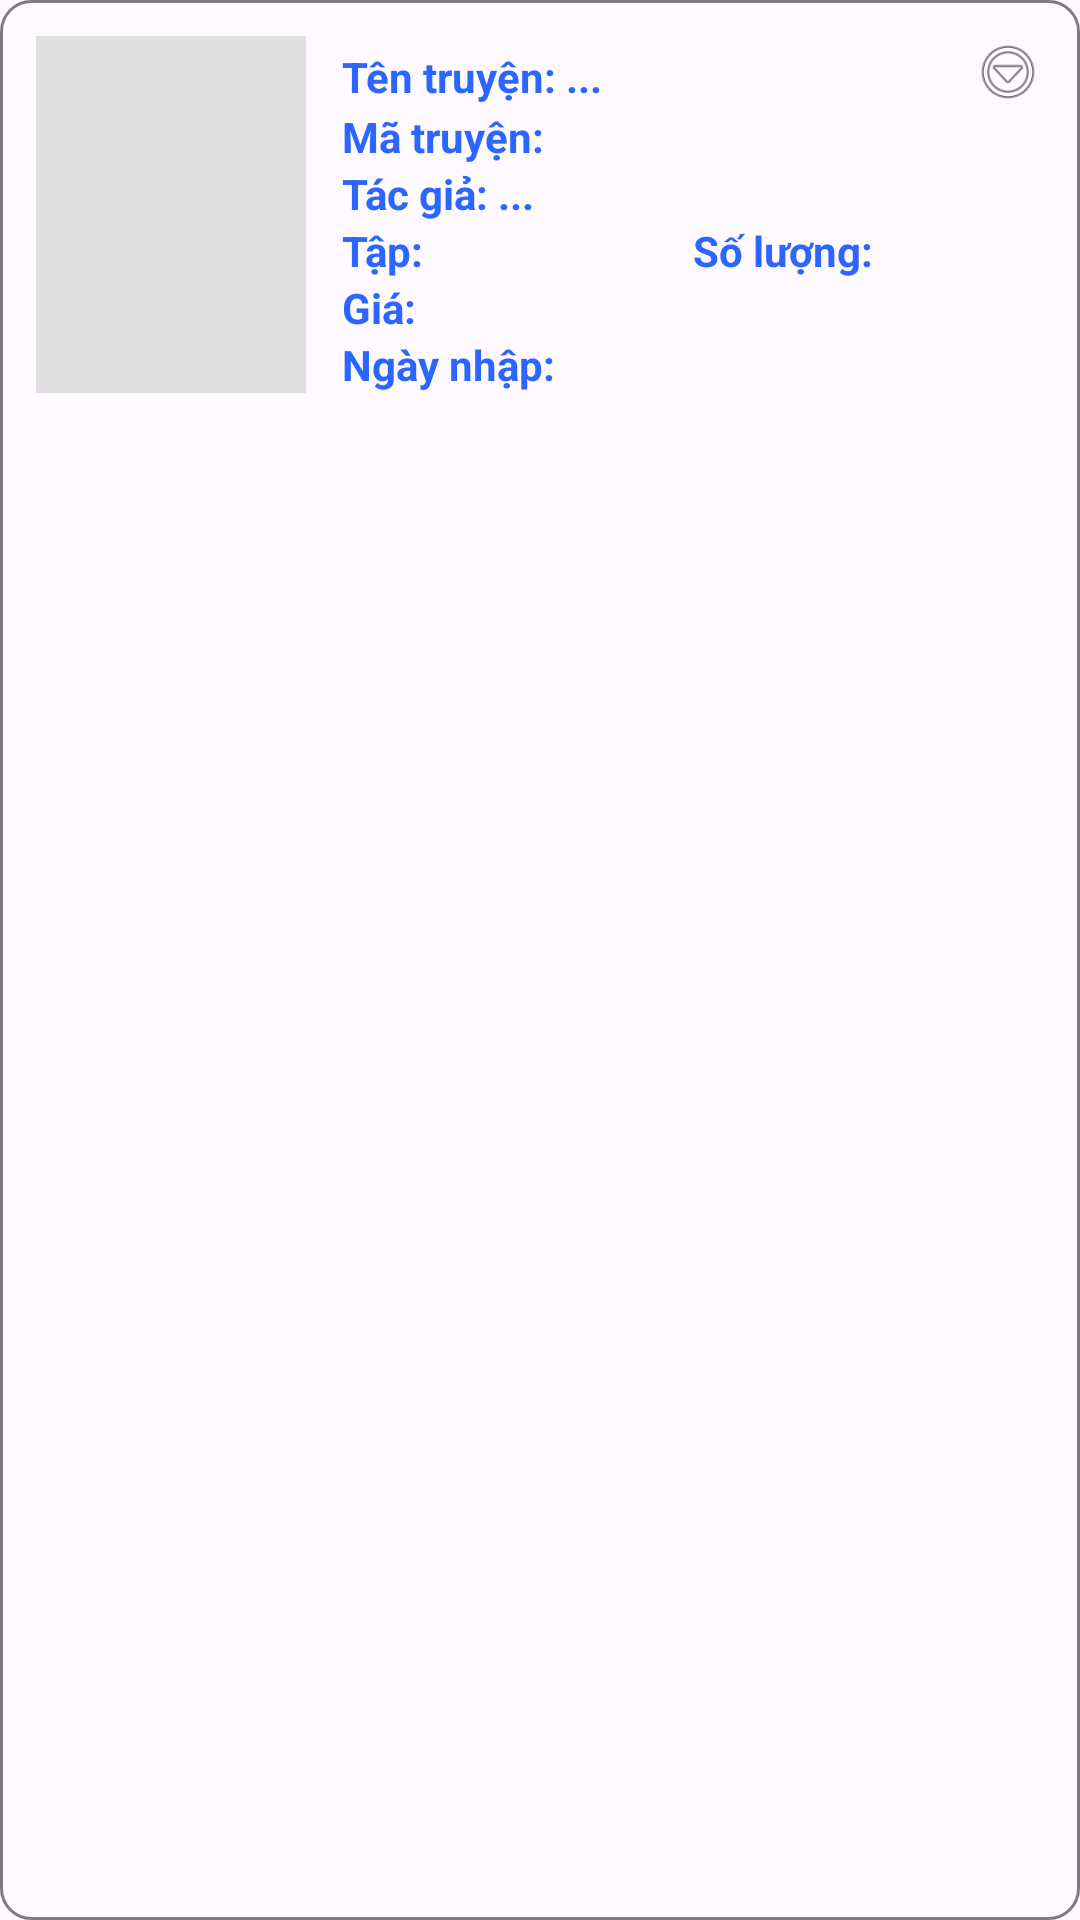

Point at icon controls on the screen. Image size 1080w x 1920h, points as point (x, y).
more: point (1008, 72)
